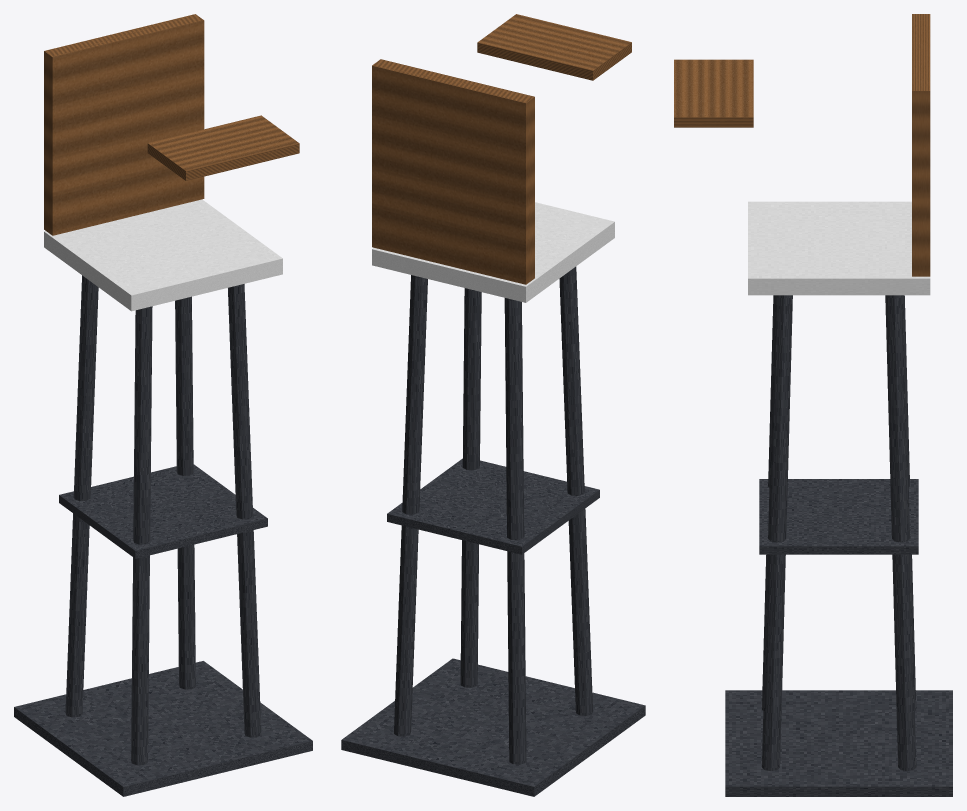
File: SillaJuez.obj
The picture shows the model from 3 angles, left to right: view 1: azimuth 30°, elevation 25°; view 2: azimuth 150°, elevation 25°; view 3: azimuth 270°, elevation 25°; orthographic projection. The views are drawn at different scales.
Size of the model in its own units: 1 by 3.37 by 1.23.
Materials: 3 (3 with a texture image).
